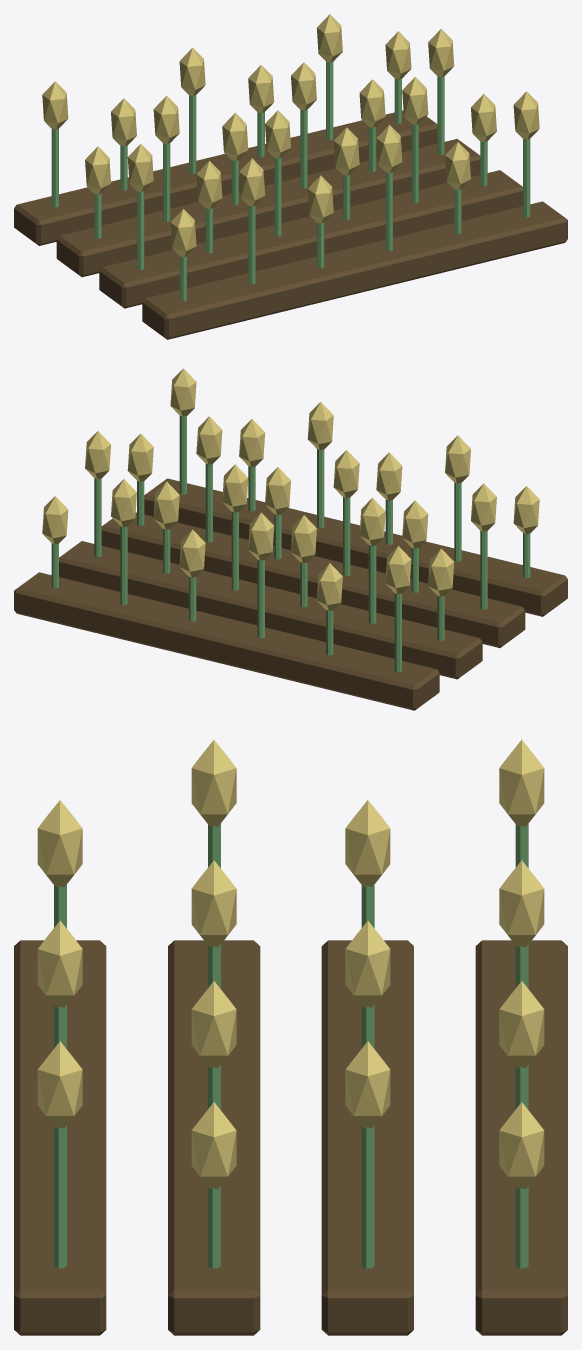
File: harthmere_farm_crops.glb
3 views of the same model, one above another, from view 1: azimuth 30°, elevation 25°; view 2: azimuth 150°, elevation 25°; view 3: azimuth 270°, elevation 25° (orthographic). The views are drawn at different scales.
Size of the model in its own units: 2 by 0.7115 by 1.32.
